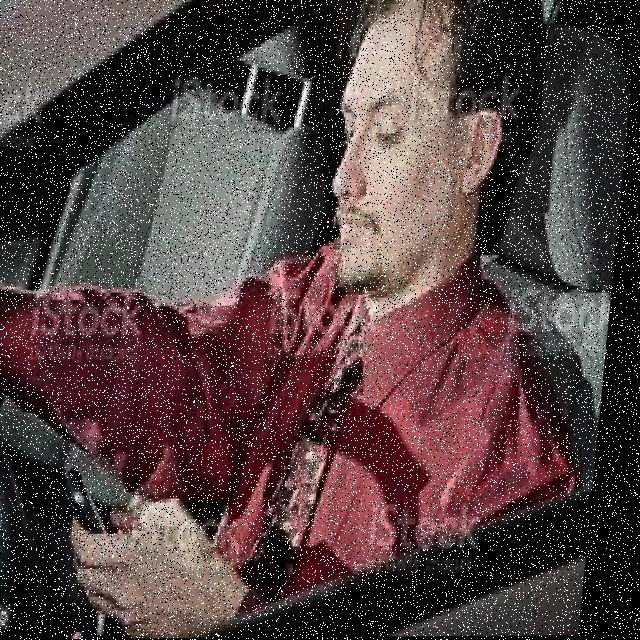noSeatbelt: (190, 211, 544, 627)
